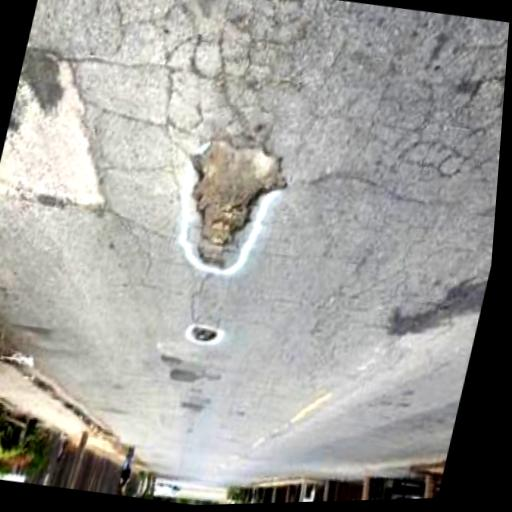pothole: (164, 132, 293, 279), (185, 323, 219, 349)
